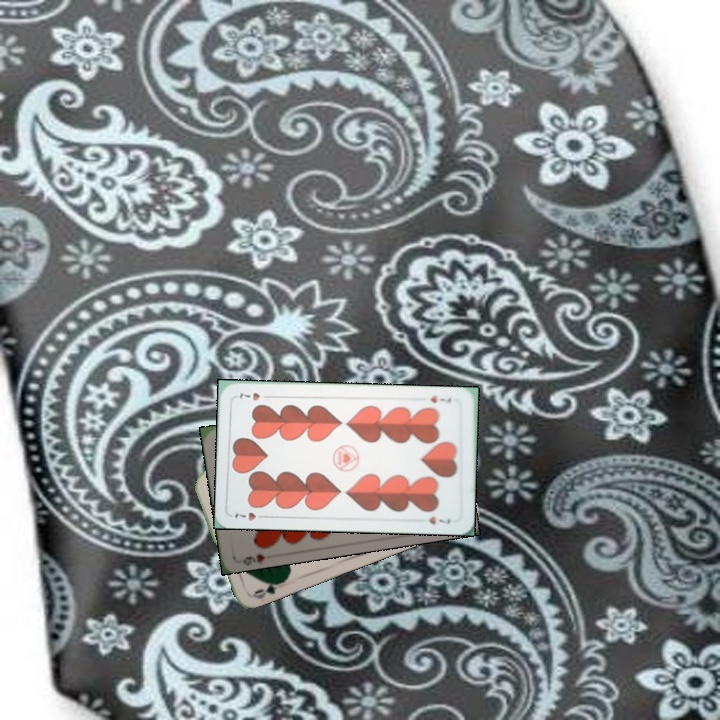GO: (249, 575, 288, 602)
H7: (230, 508, 270, 523), (426, 392, 454, 406)
H9: (239, 549, 267, 566)
